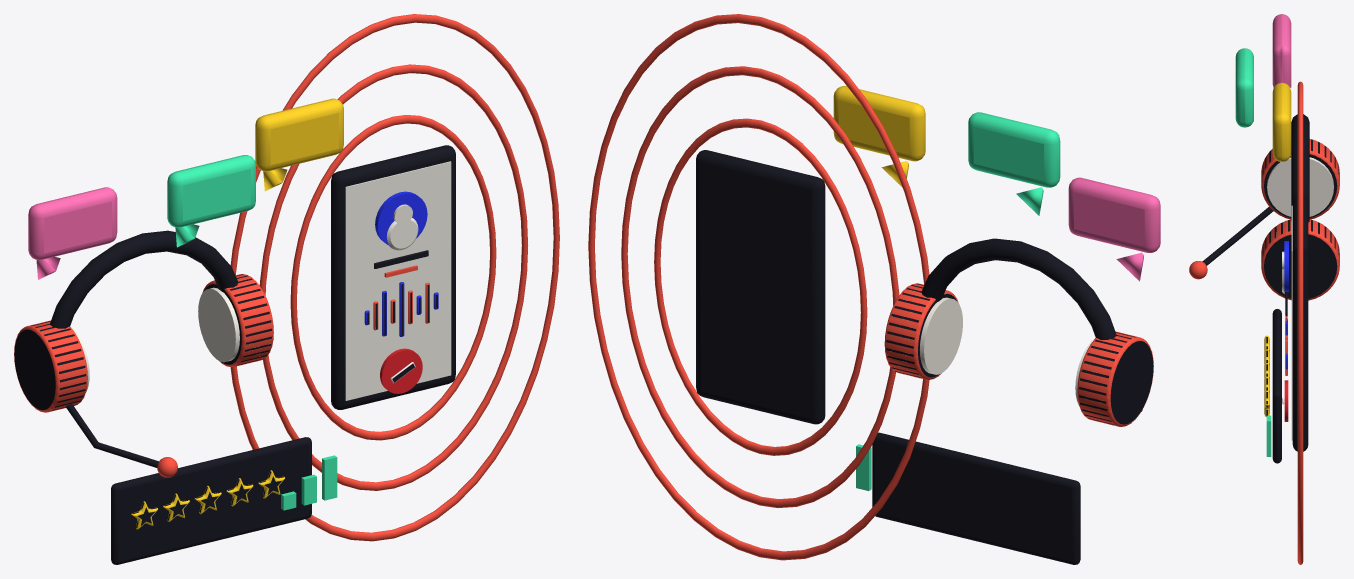
Rendered from call.glb.
3 renders of one model, left to right at view 1: azimuth 30°, elevation 25°; view 2: azimuth 150°, elevation 25°; view 3: azimuth 270°, elevation 25°, orthographic. The views are drawn at different scales.
Parts seen in each view (by area): view 1: phone, score, bob_headset, pulse_wave2, pulse_wave1, pulse_wave0, bob_bubble2, bob_bubble0, bob_bubble1; view 2: phone, score, bob_headset, pulse_wave2, pulse_wave1, pulse_wave0, bob_bubble0, bob_bubble2, bob_bubble1; view 3: bob_headset, phone, pulse_wave2, score, bob_bubble1, bob_bubble0, bob_bubble2.
Part boxes in pixels (x1,y1,x2,y2): phone: (331, 145, 455, 409); score: (111, 437, 337, 564); bob_headset: (14, 230, 273, 477); pulse_wave2: (230, 14, 559, 541); pulse_wave1: (259, 64, 528, 490); pulse_wave0: (290, 115, 496, 440); bob_bubble2: (28, 187, 117, 279); bob_bubble0: (167, 155, 255, 247); bob_bubble1: (255, 98, 343, 191); phone: (696, 150, 825, 424); score: (856, 432, 1080, 564); bob_headset: (884, 238, 1153, 426); pulse_wave2: (588, 14, 929, 560); pulse_wave1: (621, 66, 899, 507); pulse_wave0: (654, 118, 867, 455); bob_bubble0: (968, 112, 1060, 215); bob_bubble2: (1068, 177, 1160, 281); bob_bubble1: (833, 86, 925, 187); bob_headset: (1189, 114, 1339, 300); phone: (1282, 195, 1308, 451); pulse_wave2: (1297, 81, 1303, 564); score: (1264, 309, 1281, 463); bob_bubble1: (1272, 82, 1291, 161); bob_bubble0: (1235, 48, 1253, 127); bob_bubble2: (1272, 14, 1291, 87).
Size of the model in its own units: 11.91 by 10.98 by 3.25.
